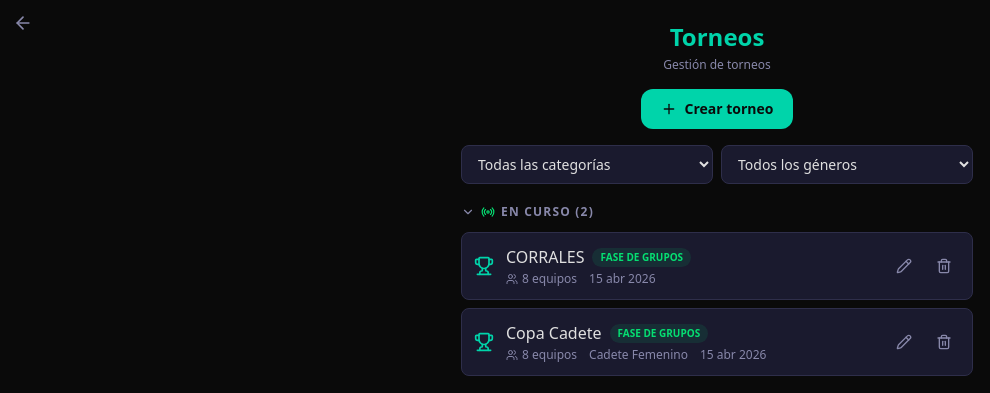
Test: AdminTorneosPage › shows tournaments with null category when a category filter is active
Check: the text "CORRALES" is shown, box left=506, top=245, right=584, bottom=269
Select "Alevín" in the 1st dropdown showing "Todas las categorías" at (587, 164), box left=461, top=145, right=713, bottom=184
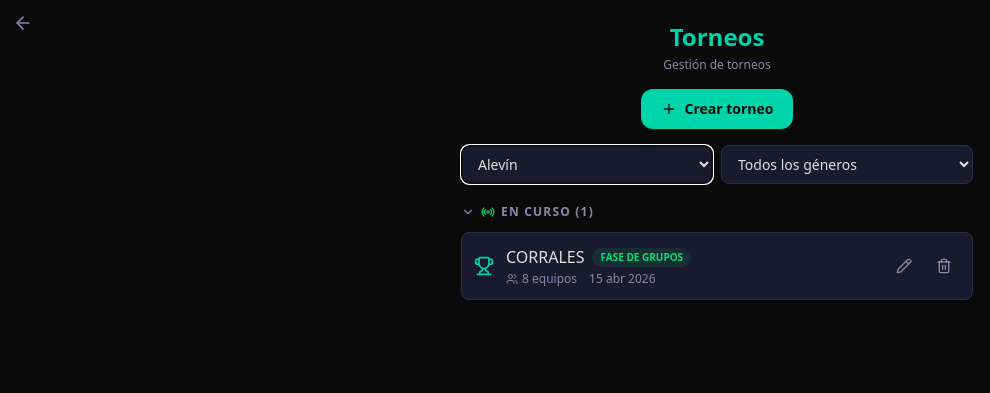
Check: the text "CORRALES" is shown, box left=506, top=245, right=584, bottom=269
Check: the link "Copa Cadete" is gone
